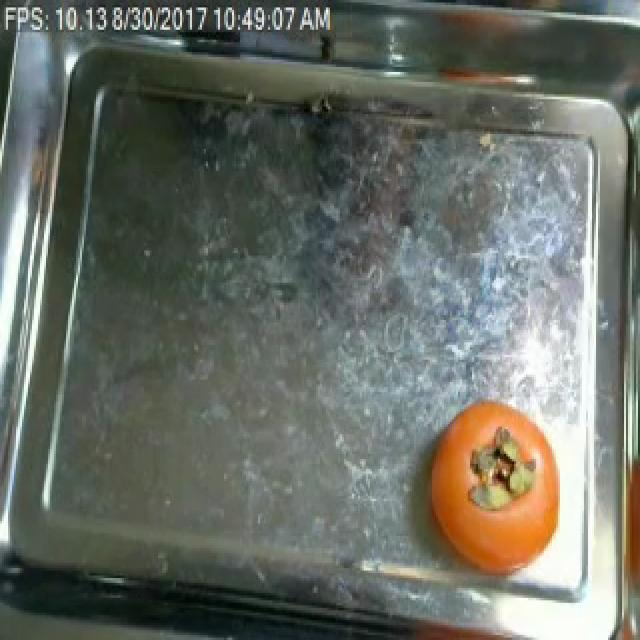Fruit: (422, 392, 568, 585), (606, 439, 640, 640)
